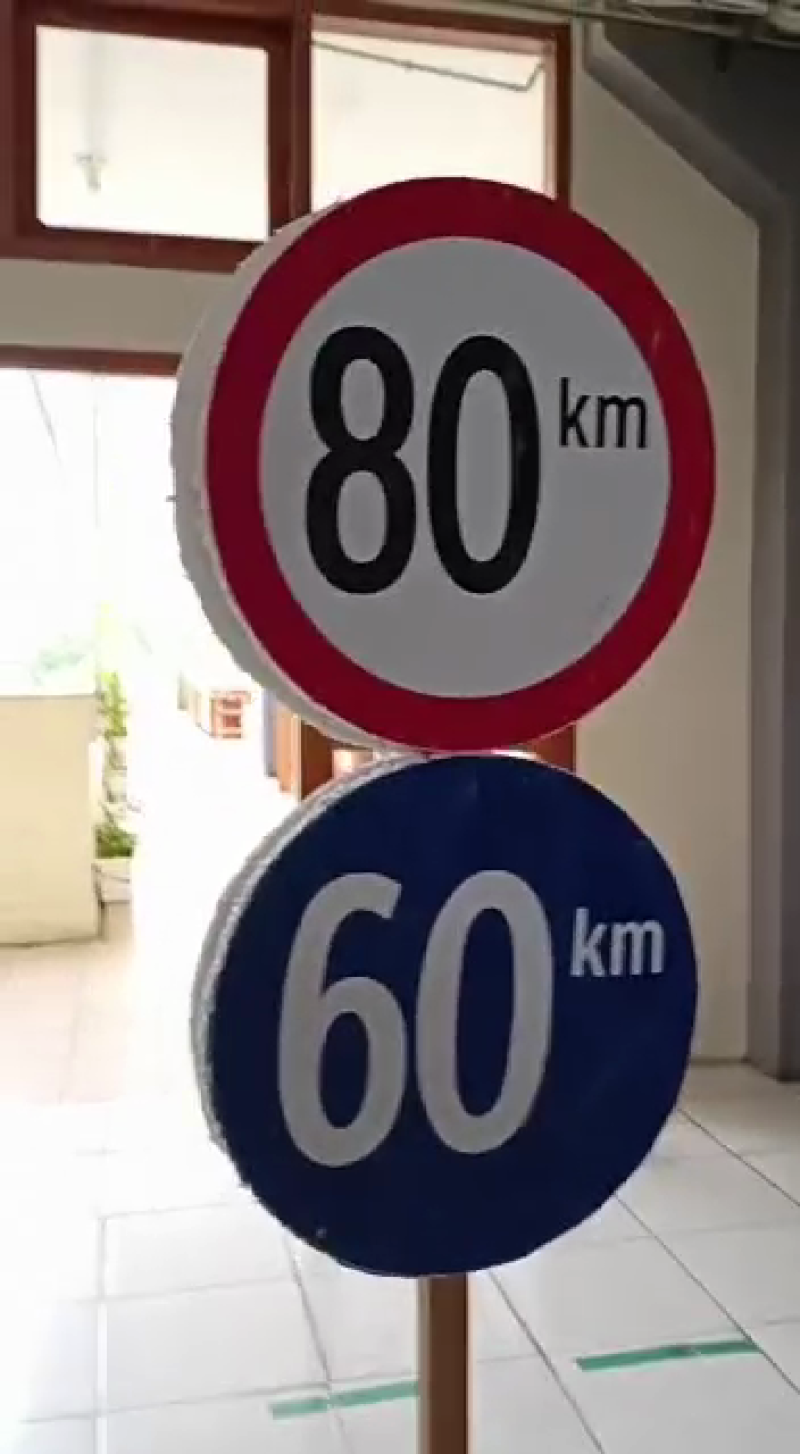batas maksimal 80kmperjam minimal 60kmperjam: (184, 158, 718, 1289)
